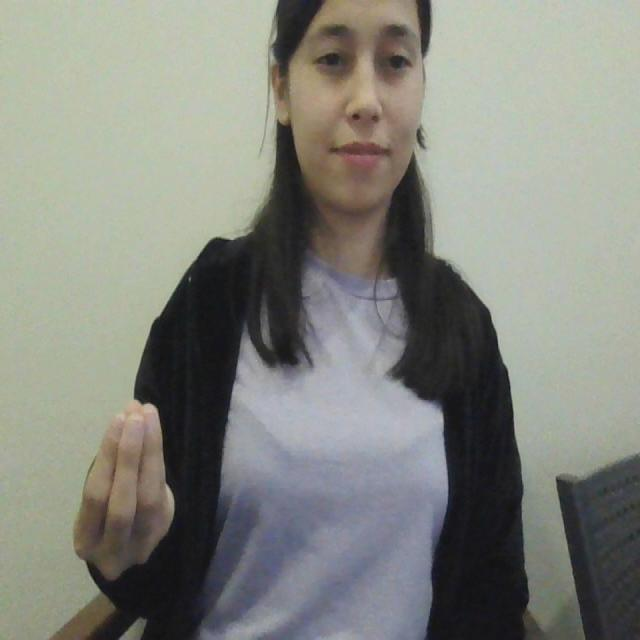iyi: (73, 388, 181, 576)
